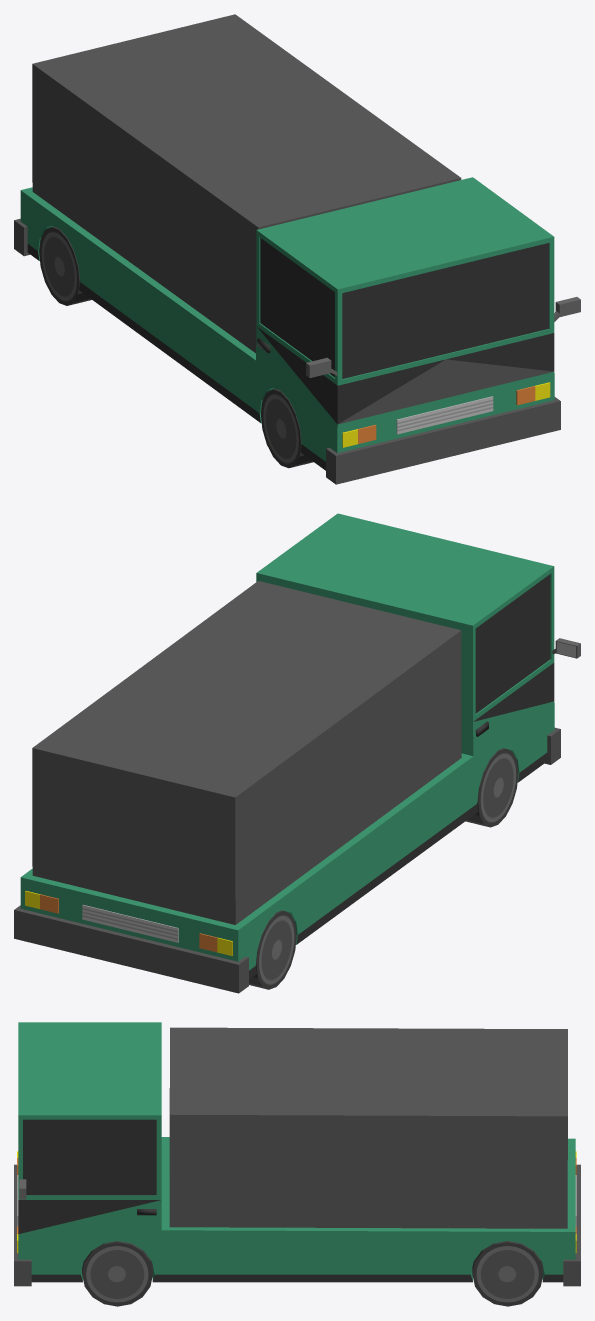
File: truck03_color02.fbx
The picture shows the model from 3 angles, top to bottom: view 1: azimuth 30°, elevation 25°; view 2: azimuth 150°, elevation 25°; view 3: azimuth 270°, elevation 25°; orthographic projection. The views are drawn at different scales.
Parts seen in each view (by area): view 1: Cube.444, Cube.448, Cube.445; view 2: Cube.444, Cube.445, Cube.448; view 3: Cube.444, Cube.446, Cube.447.
Boxes of the visible parts, left/top/right/bottom form: Cube.444: left=14, top=14, right=580, bottom=484; Cube.448: left=39, top=226, right=91, bottom=305; Cube.445: left=261, top=389, right=313, bottom=468; Cube.444: left=14, top=513, right=580, bottom=993; Cube.445: left=465, top=748, right=518, bottom=827; Cube.448: left=249, top=910, right=296, bottom=989; Cube.444: left=14, top=1022, right=580, bottom=1286; Cube.446: left=472, top=1241, right=543, bottom=1306; Cube.447: left=82, top=1241, right=152, bottom=1306.
Bounding box in the file's own units: 357 × 273 × 734.
